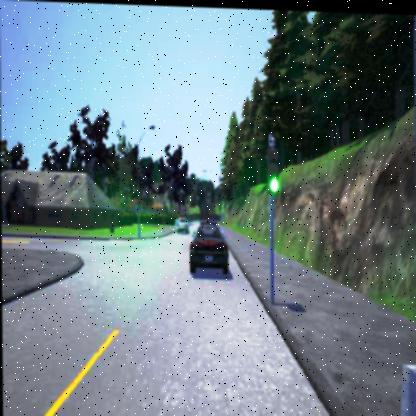vehicle: (188, 216, 228, 271), (175, 215, 188, 232)
